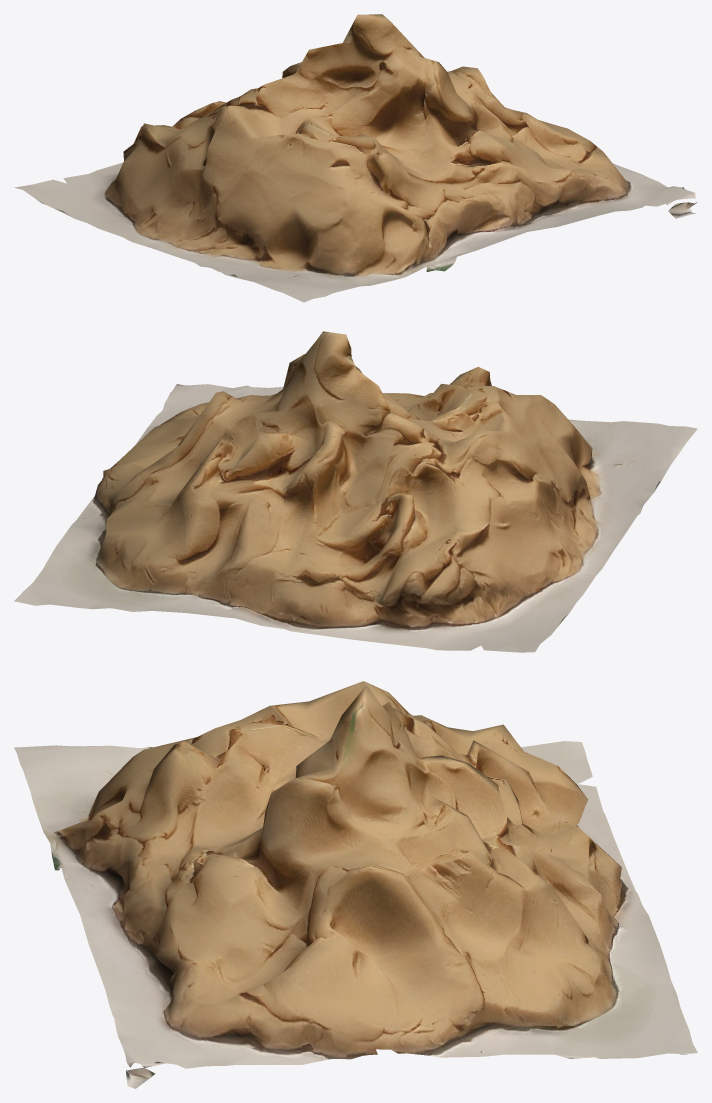
File: GPGre_MamanLOD111.fbx
The picture shows the model from 3 angles, top to bottom: view 1: azimuth 30°, elevation 25°; view 2: azimuth 150°, elevation 25°; view 3: azimuth 270°, elevation 25°; orthographic projection. The views are drawn at different scales.
Visible parts, largest first — view 1: Model; view 2: Model; view 3: Model.
Boxes of the visible parts, <box> form: Model: <box>14,14,697,302</box>; Model: <box>14,331,697,652</box>; Model: <box>14,681,697,1088</box>.
Bounding box in the file's own units: 2.36 × 0.8838 × 2.14.
